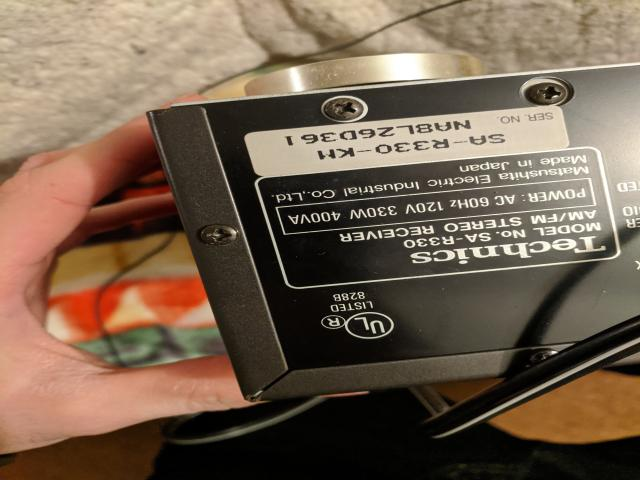CRS: (321, 96, 366, 122), (526, 81, 570, 107), (196, 223, 240, 247)
